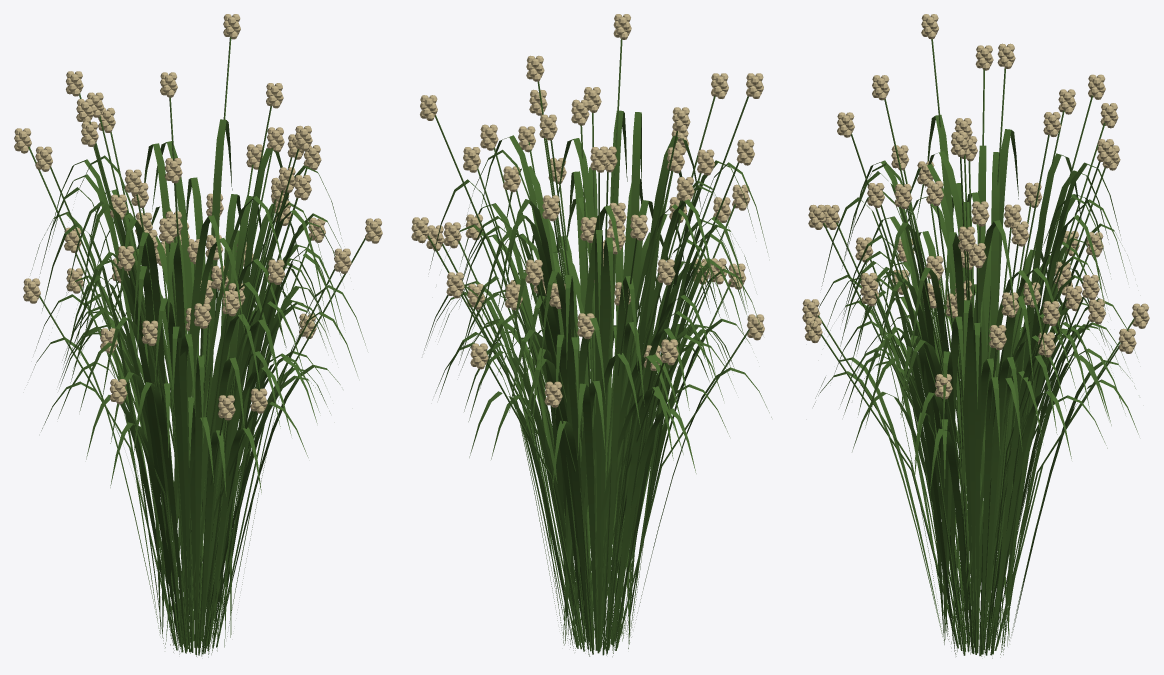
Rendered from graminea_jardin.glb.
The picture shows the model from 3 angles, left to right: view 1: azimuth 30°, elevation 25°; view 2: azimuth 150°, elevation 25°; view 3: azimuth 270°, elevation 25°; orthographic projection. The views are drawn at different scales.
Visible parts, largest first — view 1: graminea_jardin; view 2: graminea_jardin; view 3: graminea_jardin.
Boxes of the visible parts, x1,y1,x2,y2 form: graminea_jardin: [14, 14, 382, 657]; graminea_jardin: [411, 14, 771, 656]; graminea_jardin: [802, 14, 1149, 658].
Bounding box in the file's own units: 0.6091 × 1.1 × 0.6091.
